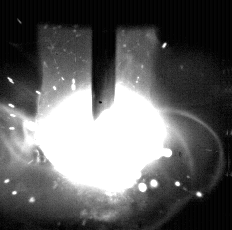arame: (92, 0, 118, 121)
poca: (22, 0, 168, 230)
